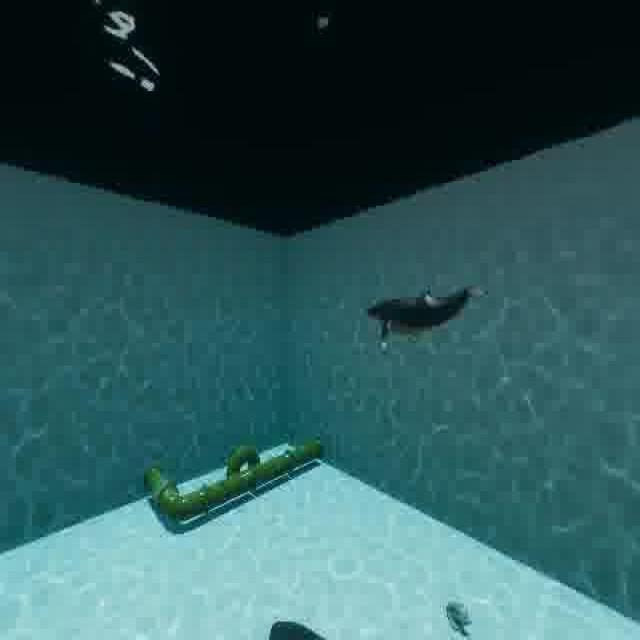Pipe: (131, 423, 365, 540)
Shell: (441, 589, 482, 639)
Whale: (355, 274, 484, 362), (259, 600, 341, 640)
